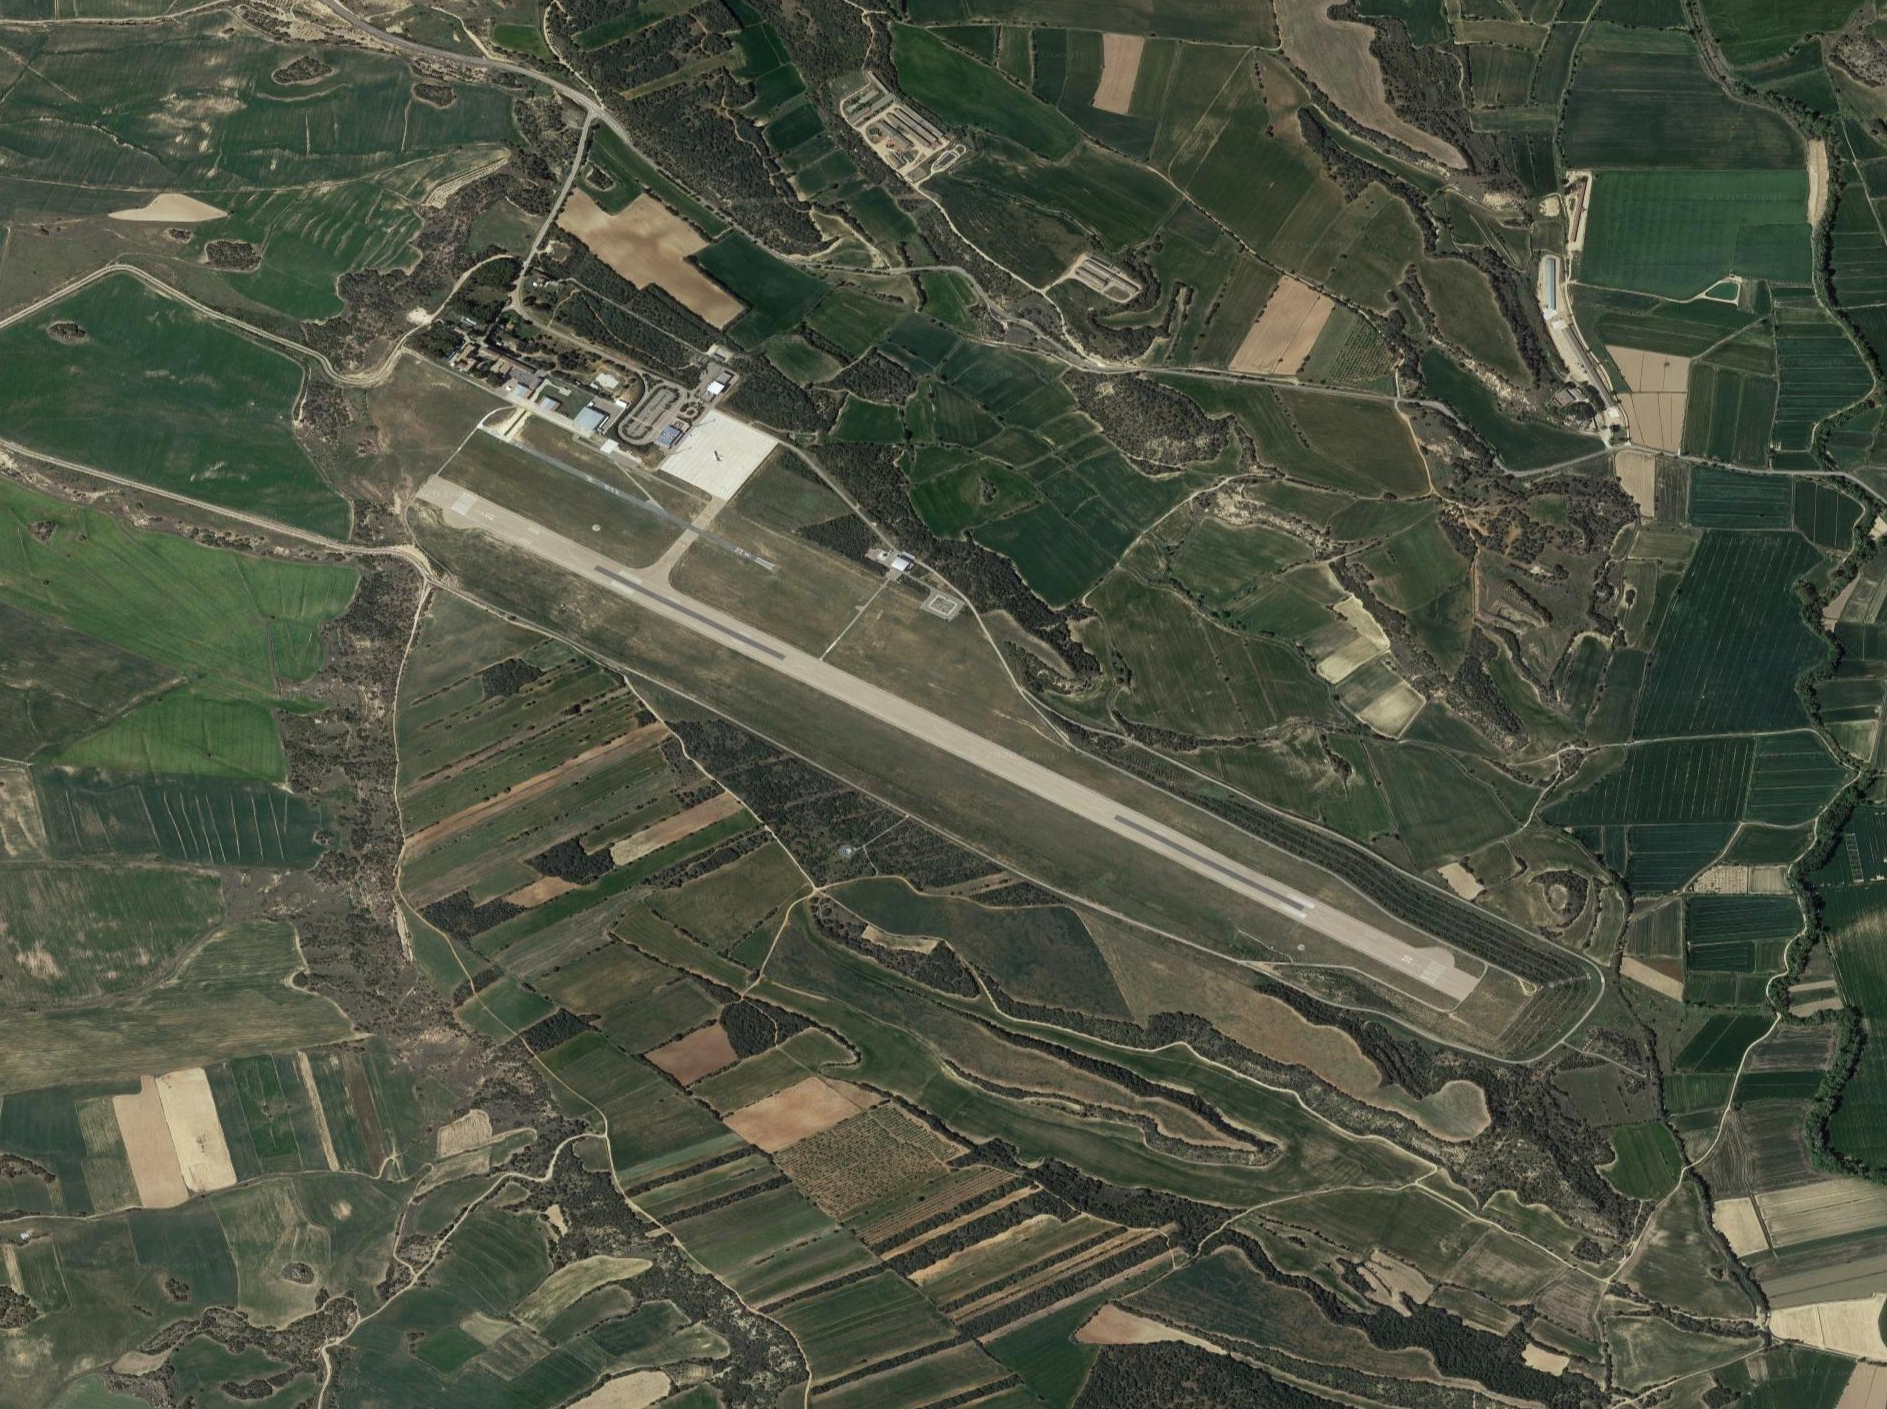airport: (410, 404, 1486, 1006)
motorway: (525, 155, 591, 266), (431, 44, 555, 102), (306, 1, 431, 58), (554, 81, 617, 161)
